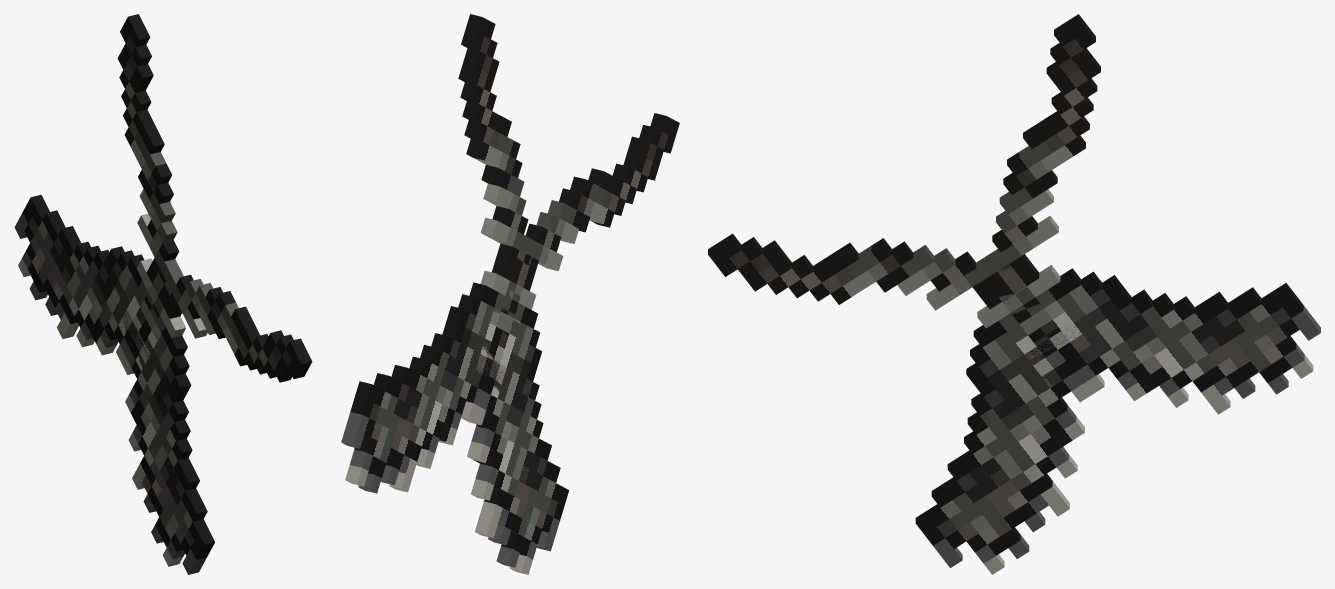
File: saw_cleaver_glaive.glb
3 renders of one model, left to right at view 1: azimuth 30°, elevation 25°; view 2: azimuth 150°, elevation 25°; view 3: azimuth 270°, elevation 25°, orthographic. The views are drawn at different scales.
Parts seen in each view (by area): view 1: off__Tool_L, main__Tool_R; view 2: main__Tool_R, off__Tool_L; view 3: main__Tool_R, off__Tool_L.
Boxes of the visible parts, bbox=[...] form: off__Tool_L: bbox=[117, 14, 214, 574]; main__Tool_R: bbox=[14, 194, 312, 382]; main__Tool_R: bbox=[341, 113, 679, 493]; off__Tool_L: bbox=[458, 14, 568, 574]; main__Tool_R: bbox=[708, 233, 1320, 414]; off__Tool_L: bbox=[915, 14, 1100, 574].
Bounding box in the file's own units: 0.0531 × 2.44 × 2.44.
1 material, 1 textured.
